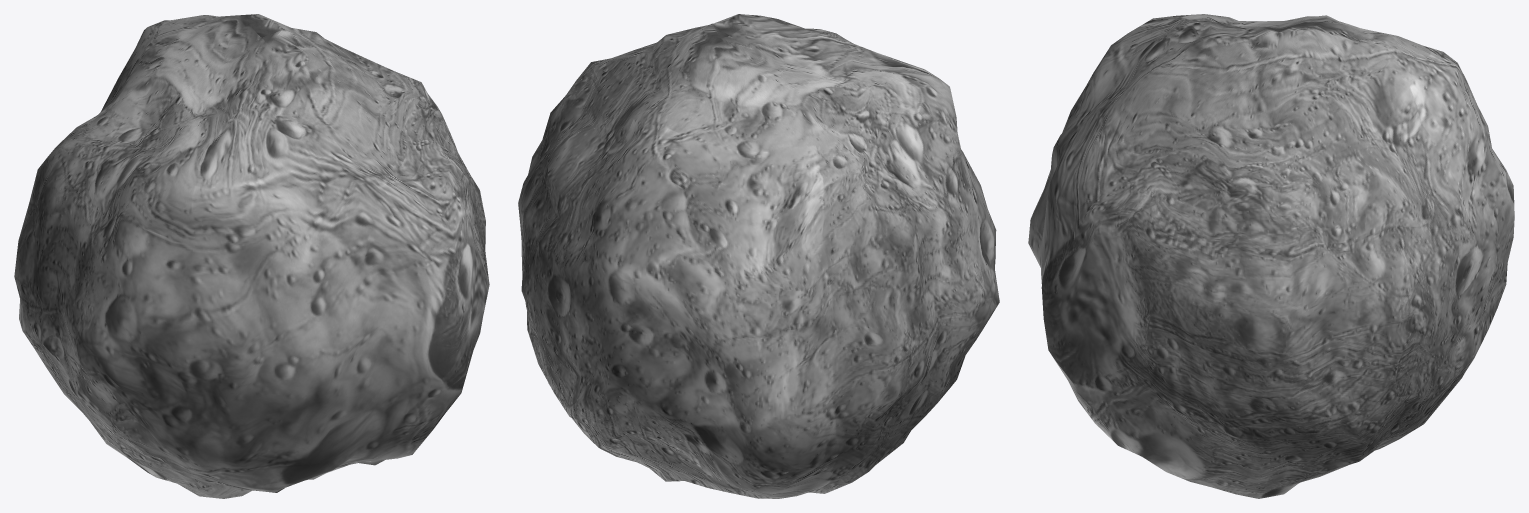
Rendered from Asteroid-3.FBX.
3 renders of one model, left to right at view 1: azimuth 30°, elevation 25°; view 2: azimuth 150°, elevation 25°; view 3: azimuth 270°, elevation 25°, orthographic. The views are drawn at different scales.
Visible parts, largest first — view 1: GeoSphere001; view 2: GeoSphere001; view 3: GeoSphere001.
Part boxes in pixels (x1,y1,x2,y2): GeoSphere001: (14, 14, 489, 498); GeoSphere001: (518, 14, 999, 498); GeoSphere001: (1028, 14, 1514, 498).
Bounding box in the file's own units: 8.78 × 8.94 × 8.83.
